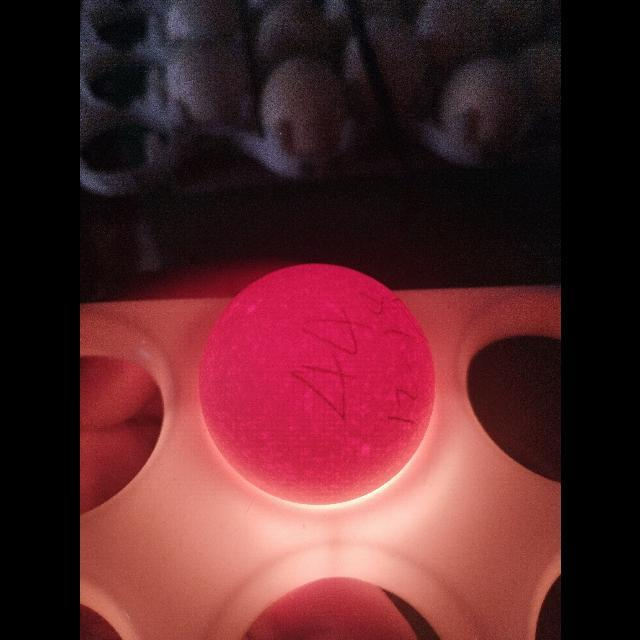Infertile: (195, 260, 439, 512)
